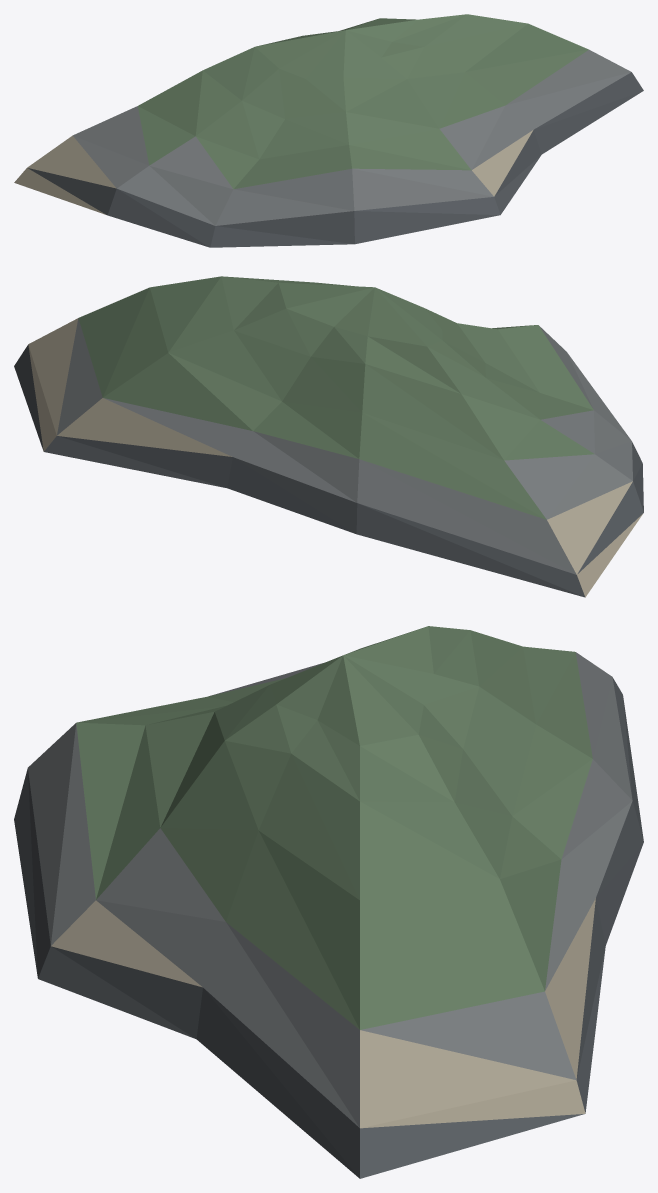
File: hags_rock_lod1.glb
3 views of the same model, one above another, from view 1: azimuth 30°, elevation 25°; view 2: azimuth 150°, elevation 25°; view 3: azimuth 270°, elevation 25° (orthographic). The views are drawn at different scales.
Size of the model in its own units: 2.54 by 0.6361 by 1.35.
